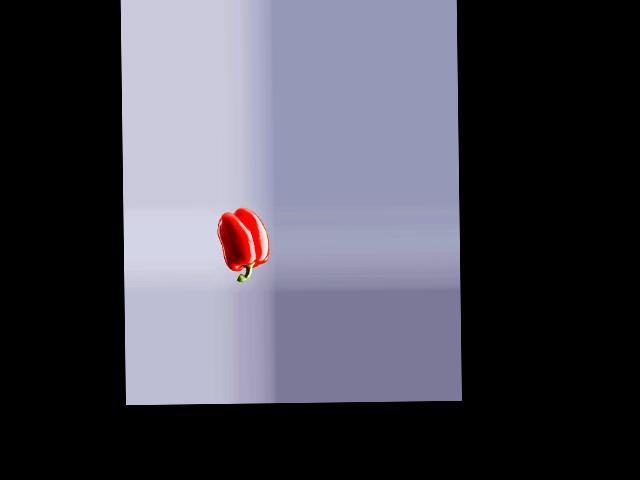bell_pepper: (216, 209, 272, 283)
